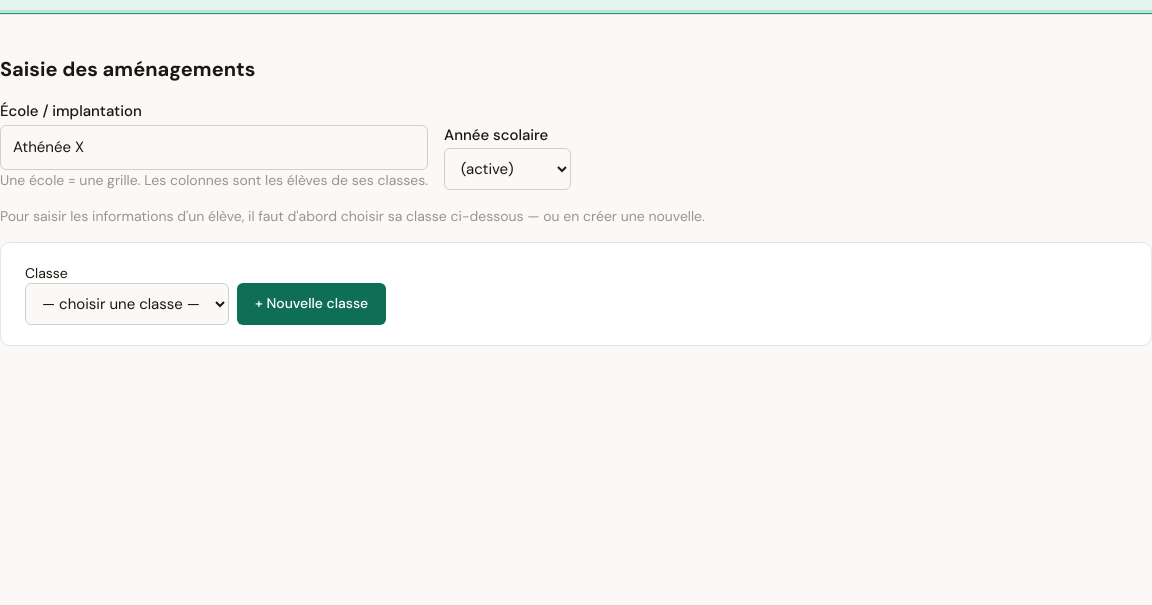
it: SaisieEcole : changement de classe › avertit à l'édition d'un élève dont des aménagements sont « à confirmer »
Select "5LA — 5e" in the dropdown labelled "Classe" at (127, 304), box [25, 283, 229, 325]
(page scrolled)
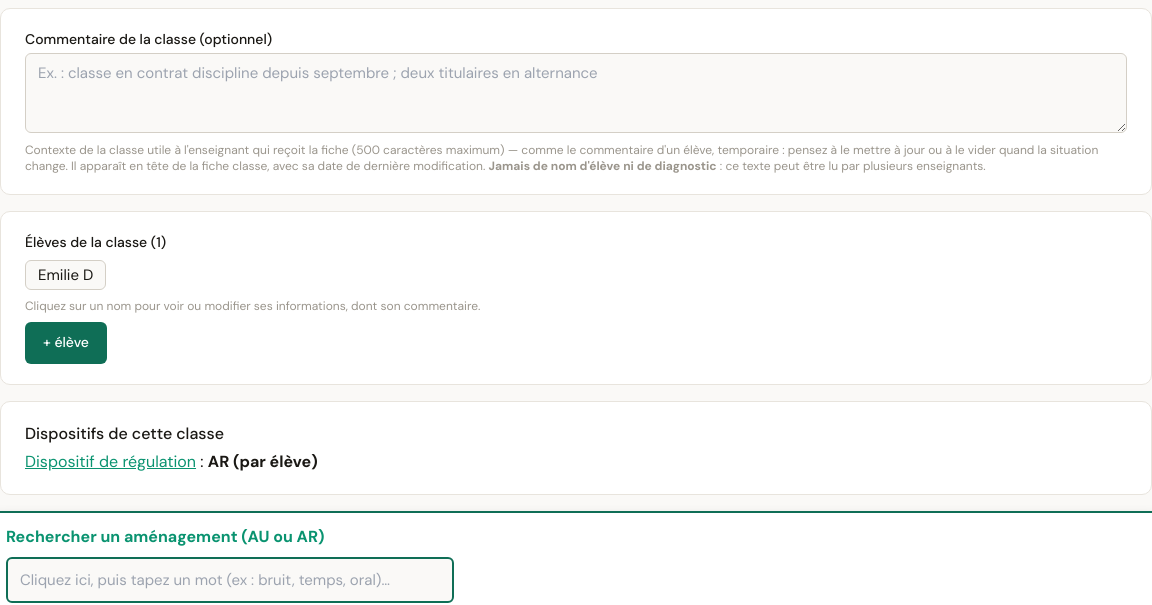
Click the button titled "Cliquer pour modifier" at (66, 275), box [25, 260, 106, 290]
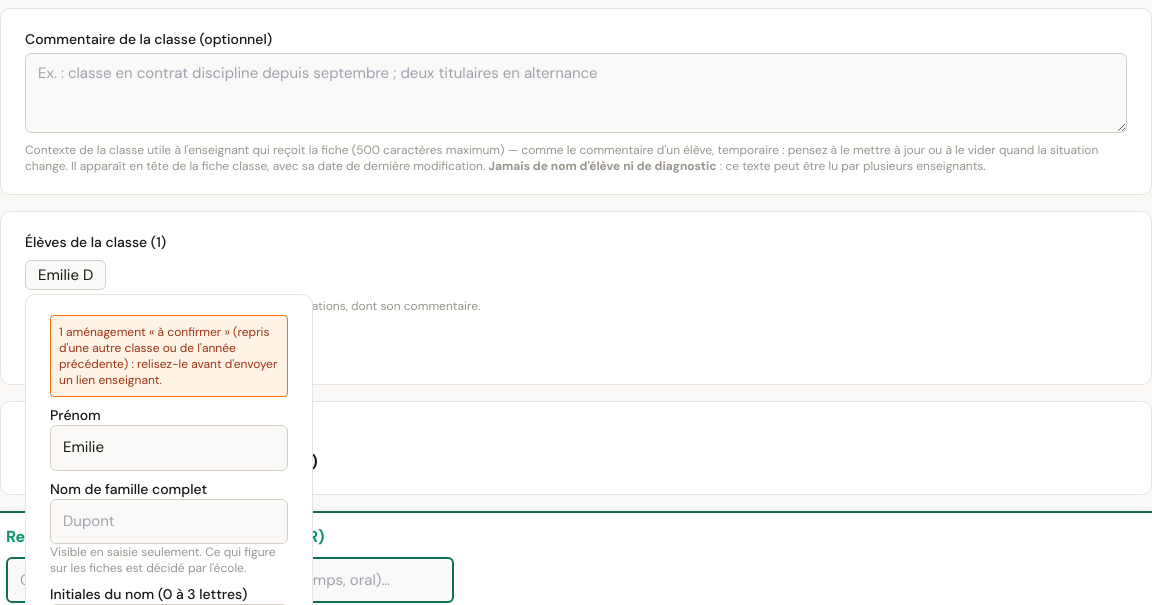
Now the text "1 aménagement « à confirmer »" is shown, box [59, 324, 277, 388]
